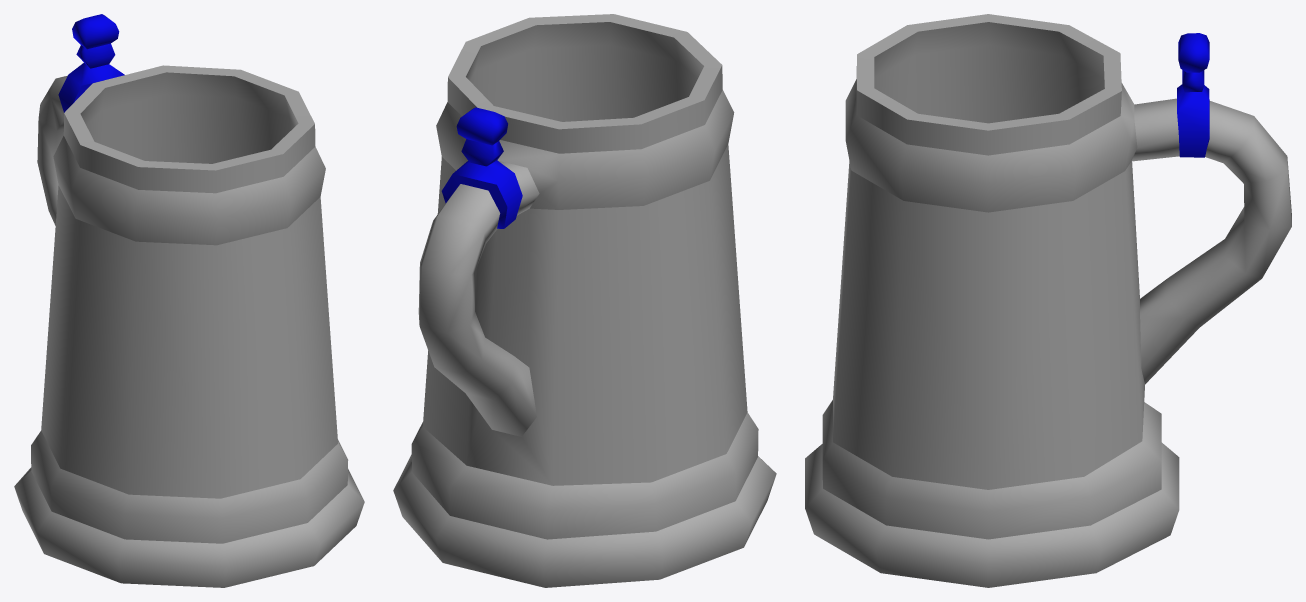
File: Stein_Base.fbx
3 views of the same model, side by side, from view 1: azimuth 30°, elevation 25°; view 2: azimuth 150°, elevation 25°; view 3: azimuth 270°, elevation 25° (orthographic). The views are drawn at different scales.
Parts seen in each view (by area): view 1: Stein_Base; view 2: Stein_Base; view 3: Stein_Base.
Boxes of the visible parts, left/top/right/bottom form: Stein_Base: left=14, top=14, right=364, bottom=587; Stein_Base: left=393, top=14, right=776, bottom=587; Stein_Base: left=805, top=14, right=1291, bottom=587.
Bounding box in the file's own units: 48.17 × 65.09 × 60.77.
